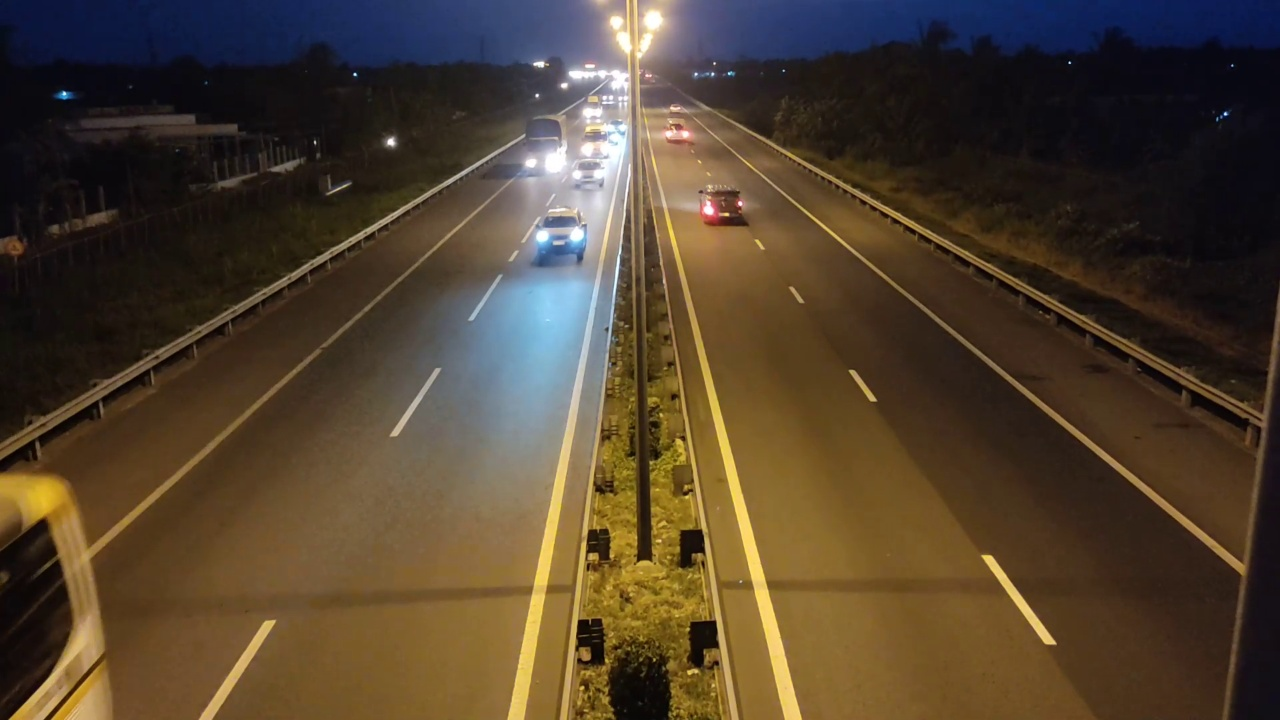car: (531, 206, 589, 266), (698, 183, 748, 226), (571, 159, 607, 189), (663, 123, 695, 147)
